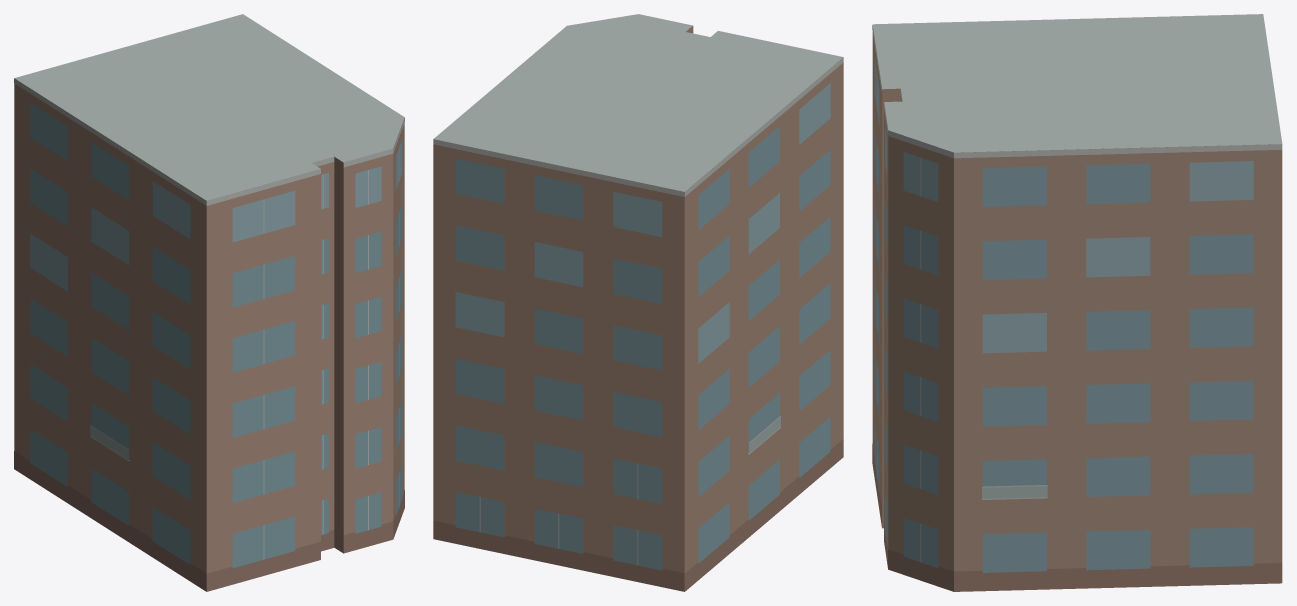
Rendered from survey-upis-32727569.glb.
3 views of the same model, side by side, from view 1: azimuth 30°, elevation 25°; view 2: azimuth 150°, elevation 25°; view 3: azimuth 270°, elevation 25° (orthographic). The views are drawn at different scales.
Visible parts, largest first — view 1: survey-upis-32727569.tmp; view 2: survey-upis-32727569.tmp; view 3: survey-upis-32727569.tmp.
Part boxes in pixels (x1,y1,x2,y2): survey-upis-32727569.tmp: (14, 14, 404, 591); survey-upis-32727569.tmp: (433, 14, 843, 591); survey-upis-32727569.tmp: (872, 14, 1282, 591).
Bounding box in the file's own units: 12.73 × 18.8 × 15.91.
